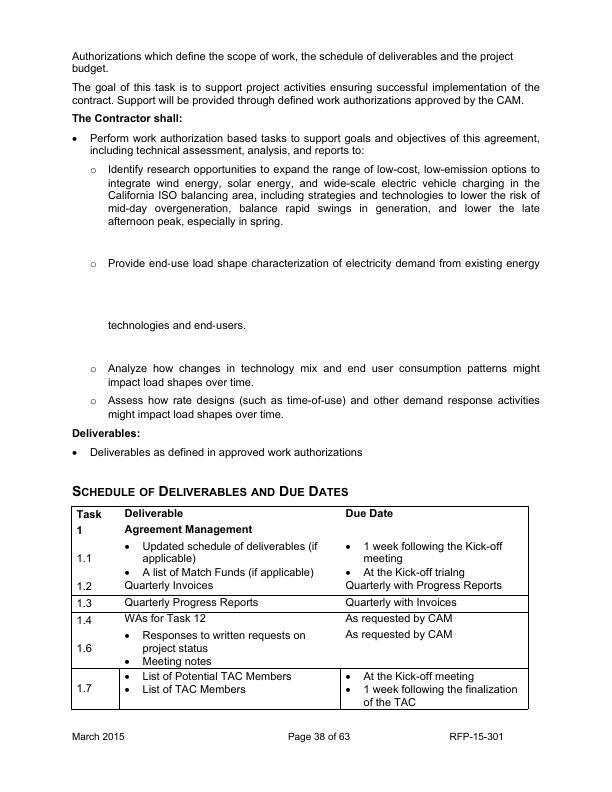table: (69, 503, 534, 713)
text: (104, 162, 546, 231), (67, 48, 543, 109), (69, 130, 541, 157), (104, 394, 548, 422), (105, 360, 547, 388), (105, 254, 545, 276), (69, 480, 351, 499), (87, 444, 365, 462), (106, 316, 247, 334), (70, 110, 186, 125), (69, 426, 145, 442)
